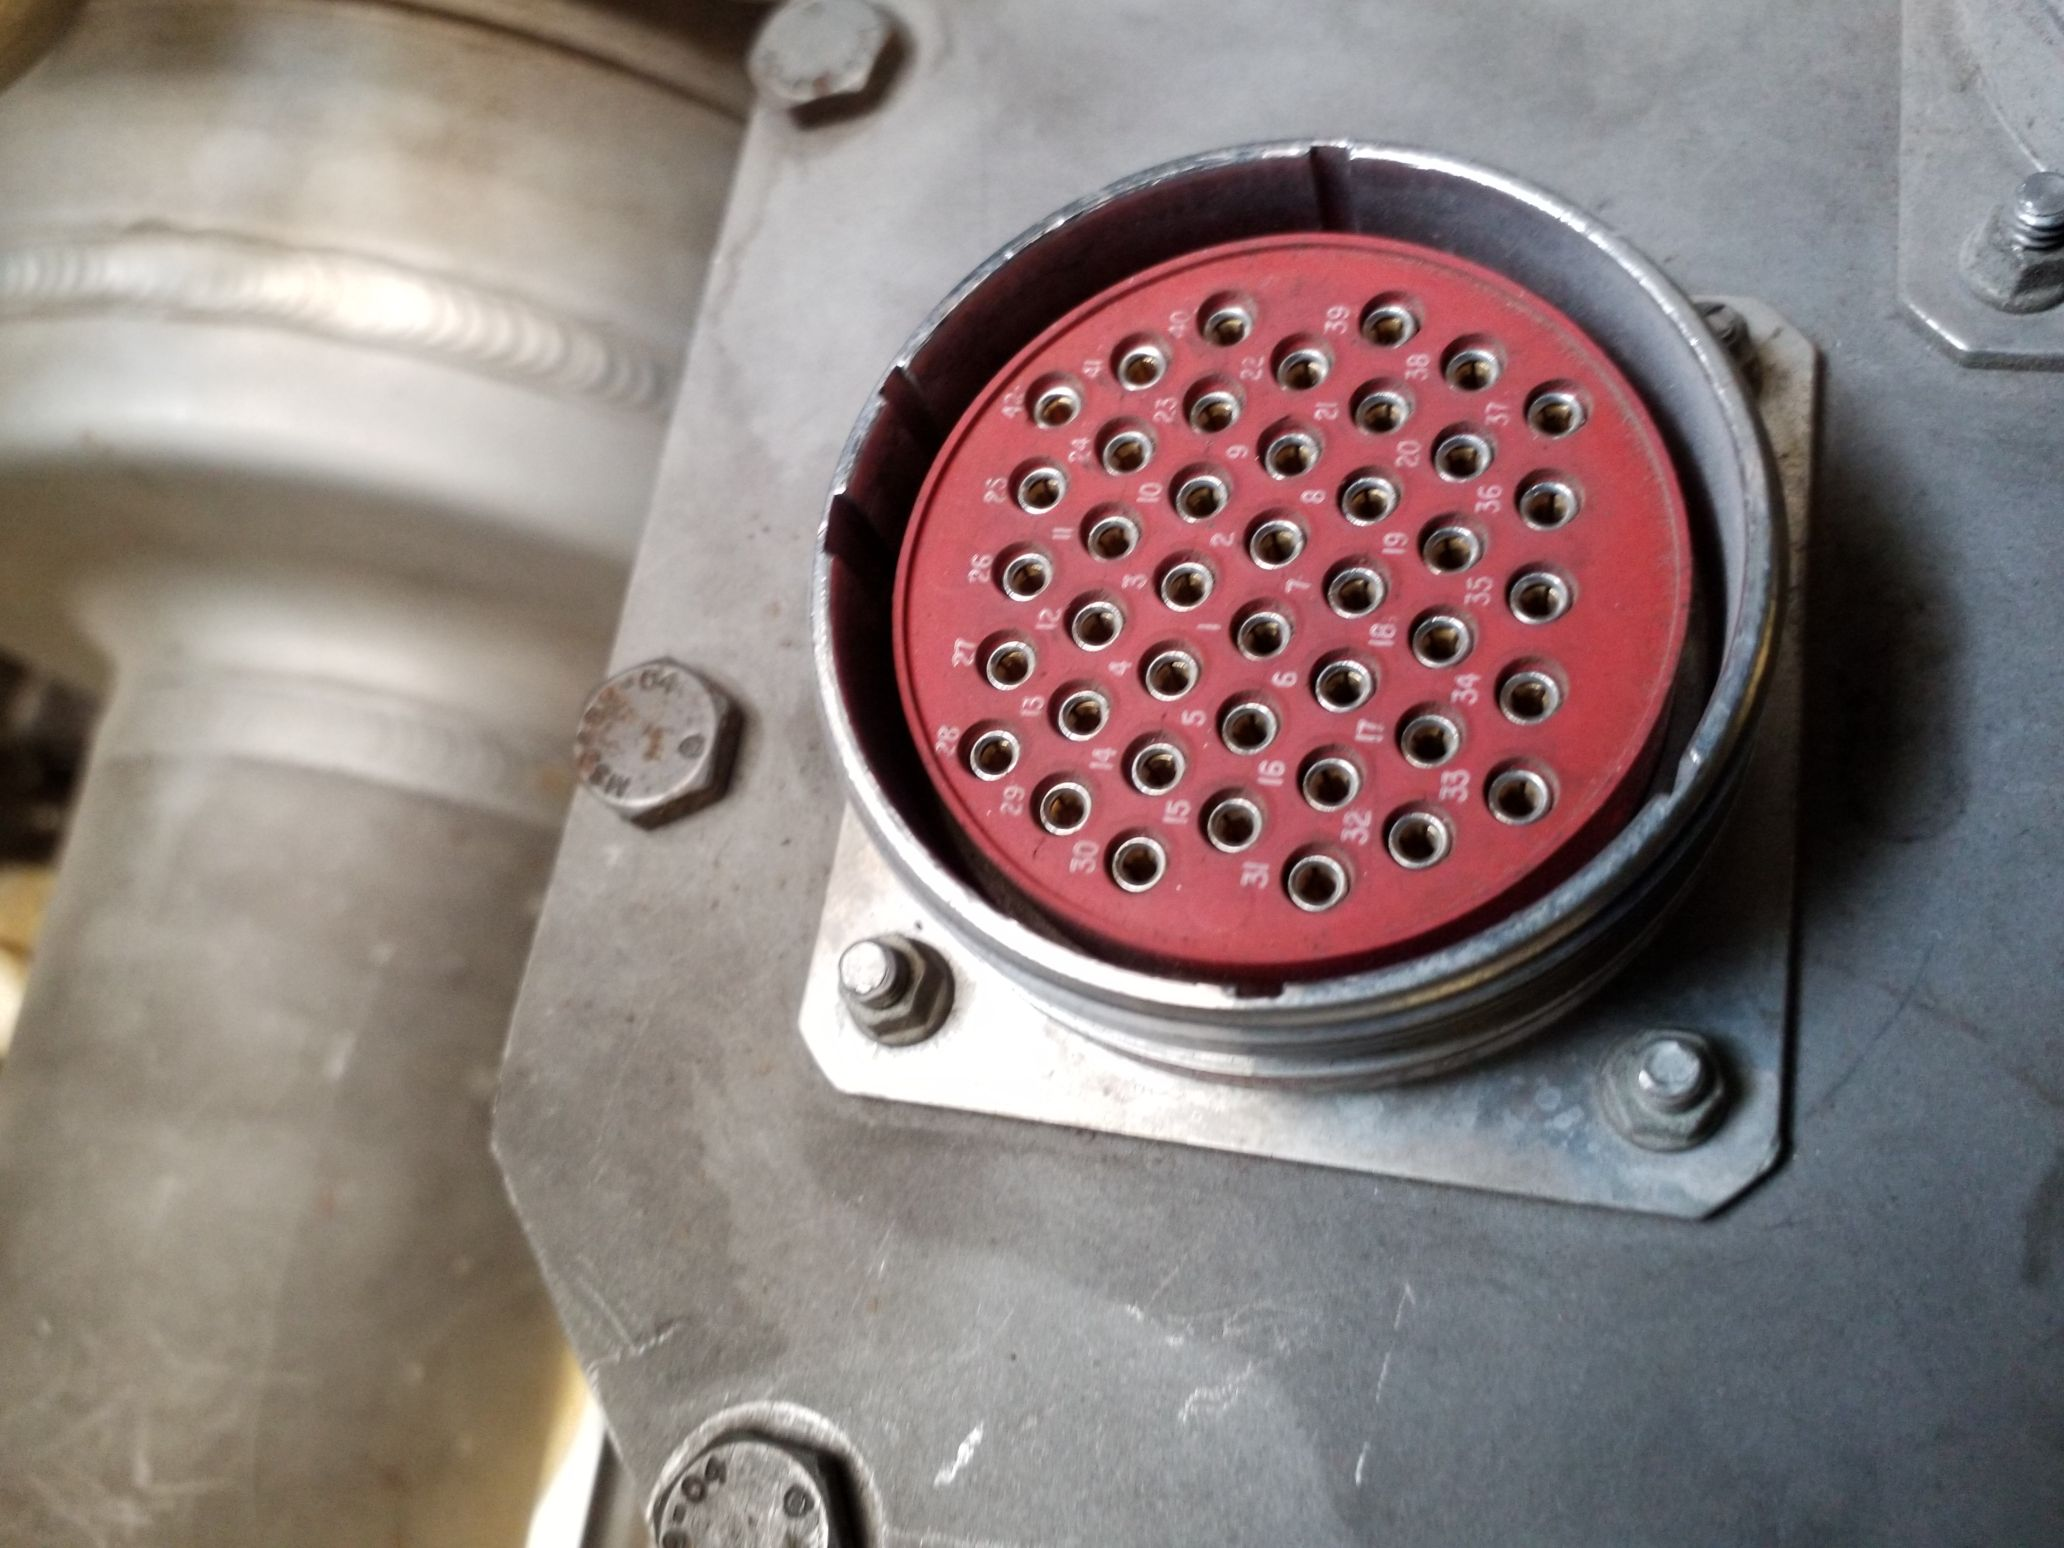inletnumbers: (808, 117, 1794, 1080)
